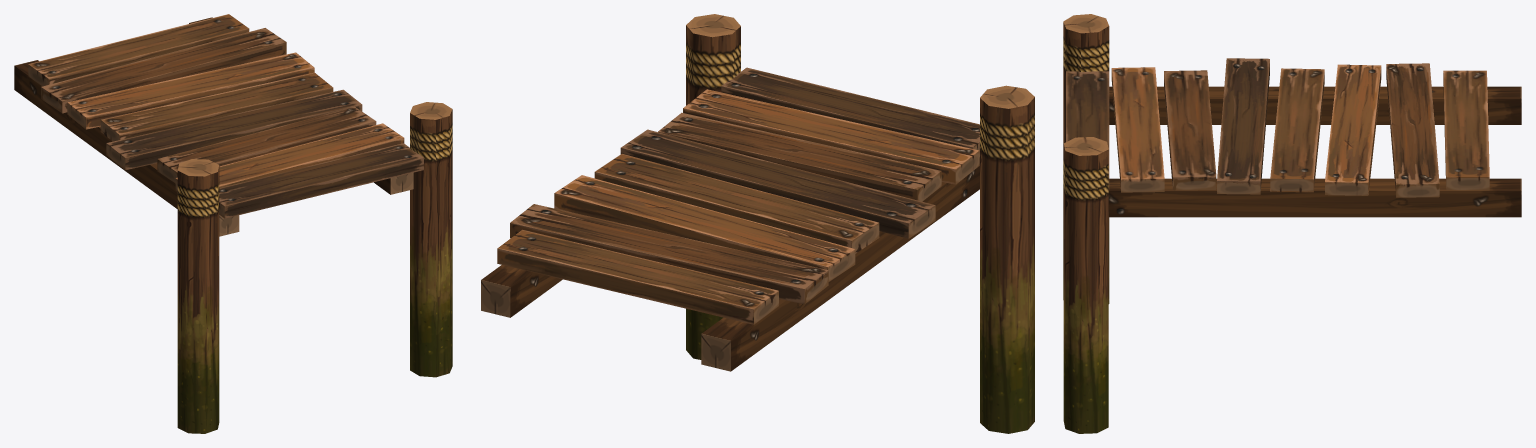
File: pier_middle_A.fbx
The picture shows the model from 3 angles, left to right: view 1: azimuth 30°, elevation 25°; view 2: azimuth 150°, elevation 25°; view 3: azimuth 270°, elevation 25°; orthographic projection. The views are drawn at different scales.
Visible parts, largest first — view 1: pier_middle_A; view 2: pier_middle_A; view 3: pier_middle_A.
Boxes of the visible parts, x1=… form: pier_middle_A: x1=14, y1=14, x2=452, y2=433; pier_middle_A: x1=481, y1=14, x2=1034, y2=433; pier_middle_A: x1=1063, y1=14, x2=1521, y2=433.
Size of the model in its own units: 231 by 211 by 316.
